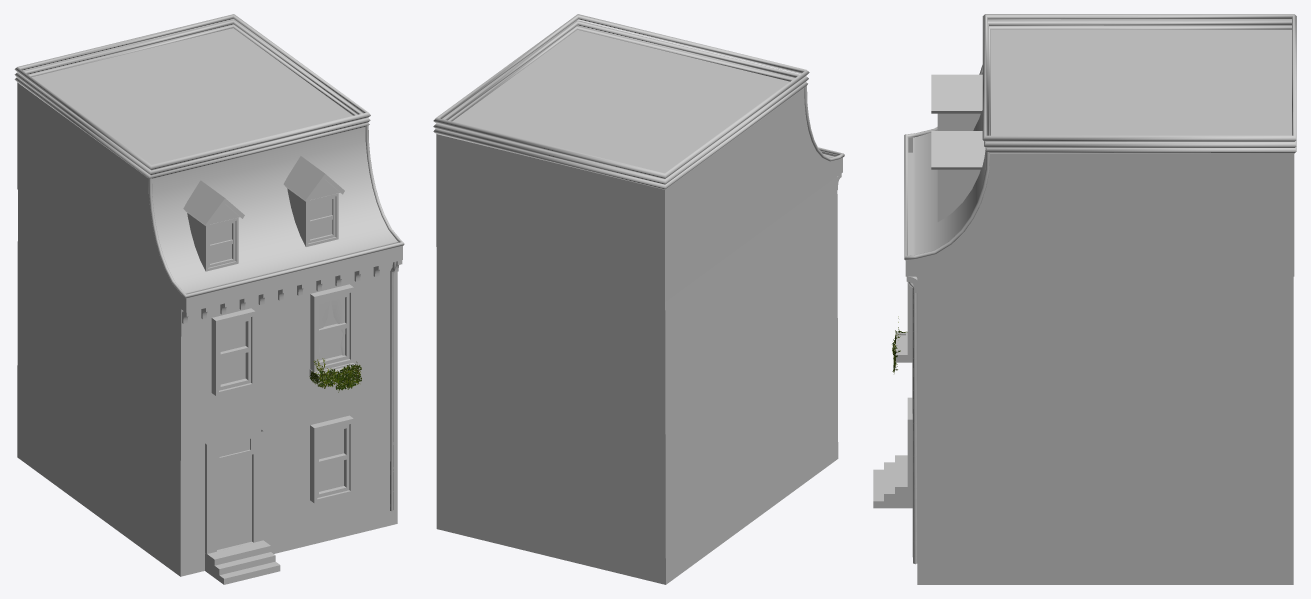
Rendered from StJohnsHouse01.fbx.
3 renders of one model, left to right at view 1: azimuth 30°, elevation 25°; view 2: azimuth 150°, elevation 25°; view 3: azimuth 270°, elevation 25°, orthographic. The views are drawn at different scales.
Parts seen in each view (by area): view 1: JellyHouse_low, JellyRoof_low, JellyTrim_low, JellyDoorBottom_low, JellyMansard_low.002, JellyMansard_low.001, JellyWindow_low.003, JellyWindow_low.002, JellyWindow_low.001, JellySteps_low, JellySupports_low, JellyDrainPipe (+1 smaller); view 2: JellyHouse_low, JellyRoof_low, JellyTrim_low; view 3: JellyHouse_low, JellyRoof_low, JellyTrim_low, JellyMansard_low.001, JellyMansard_low.002, JellySteps_low, JellyDrainPipe, JellyWindow_low.002.
Boxes of the visible parts, box(x1,y1,x2,y2) form: JellyHouse_low: box(17, 190, 397, 576); JellyRoof_low: box(17, 28, 402, 312); JellyTrim_low: box(14, 14, 404, 298); JellyDoorBottom_low: box(205, 430, 263, 553); JellyMansard_low.002: box(183, 180, 244, 271); JellyMansard_low.001: box(283, 156, 344, 246); JellyWindow_low.003: box(211, 308, 255, 395); JellyWindow_low.002: box(310, 415, 353, 503); JellyWindow_low.001: box(310, 284, 353, 371); JellySteps_low: box(205, 540, 280, 584); JellySupports_low: box(182, 260, 402, 323); JellyDrainPipe: box(390, 261, 396, 511); JellyHouse_low: box(436, 177, 838, 584); JellyRoof_low: box(436, 30, 842, 302); JellyTrim_low: box(433, 14, 844, 189); JellyHouse_low: box(917, 276, 1293, 584); JellyRoof_low: box(905, 29, 1294, 276); JellyTrim_low: box(904, 14, 1296, 260); JellyMansard_low.001: box(931, 131, 985, 221); JellyMansard_low.002: box(931, 74, 982, 130); JellySteps_low: box(873, 455, 912, 508); JellyDrainPipe: box(908, 282, 917, 564); JellyWindow_low.002: box(907, 397, 912, 506).
Bounding box in the file's own units: 751 × 1271 × 1086.
